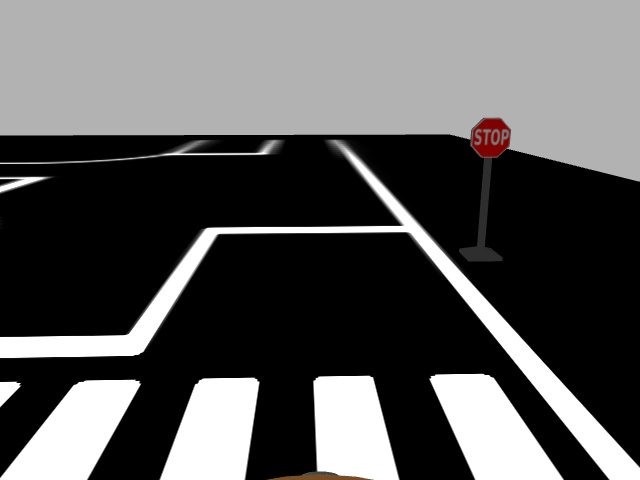stop: (465, 115, 515, 160)
